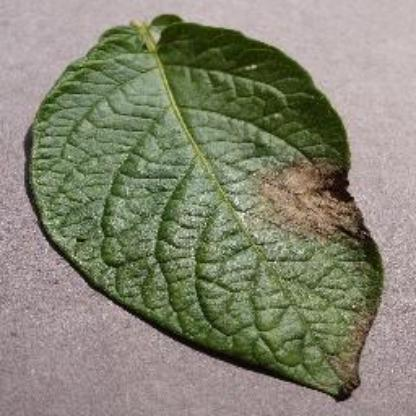Late-Blight: (26, 11, 392, 403)
